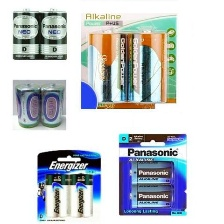battery: (124, 25, 170, 108), (87, 27, 130, 105), (37, 6, 69, 61), (10, 8, 40, 61), (12, 79, 41, 132), (126, 183, 176, 211), (128, 158, 176, 187), (42, 171, 71, 219), (38, 80, 66, 129), (70, 171, 95, 219)
book: (75, 7, 185, 114), (117, 131, 188, 217), (33, 146, 105, 224)
